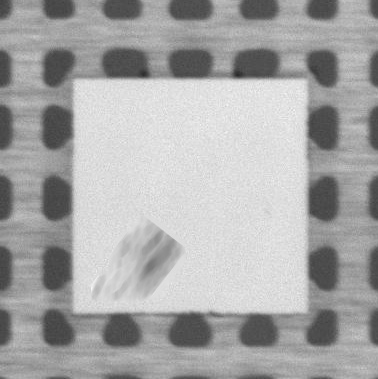DIE_INK: (85, 212, 189, 304)
